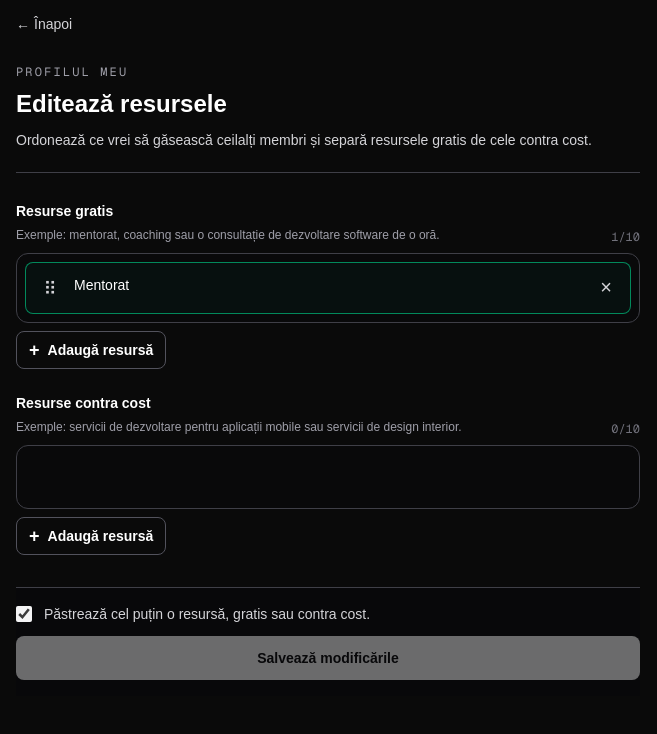
Test: ResourceMaintenanceForm › saves explicitly, then navigates with the established success-toast param
Click the button "Mentorat" at (102, 285), box [74,271,582,299]
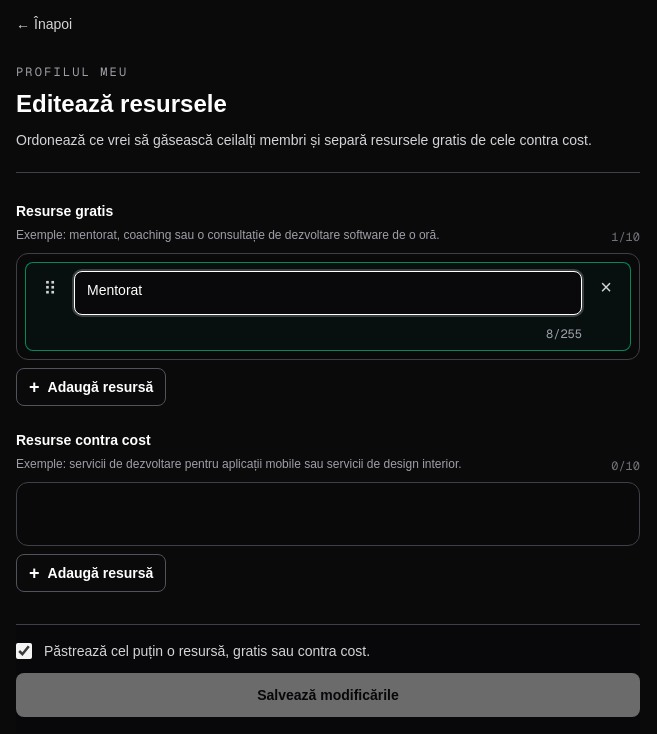
Replace the text in the text box named "Editează Mentorat" with "Coaching" at (328, 293), box [74,271,582,315]
Then press Enter
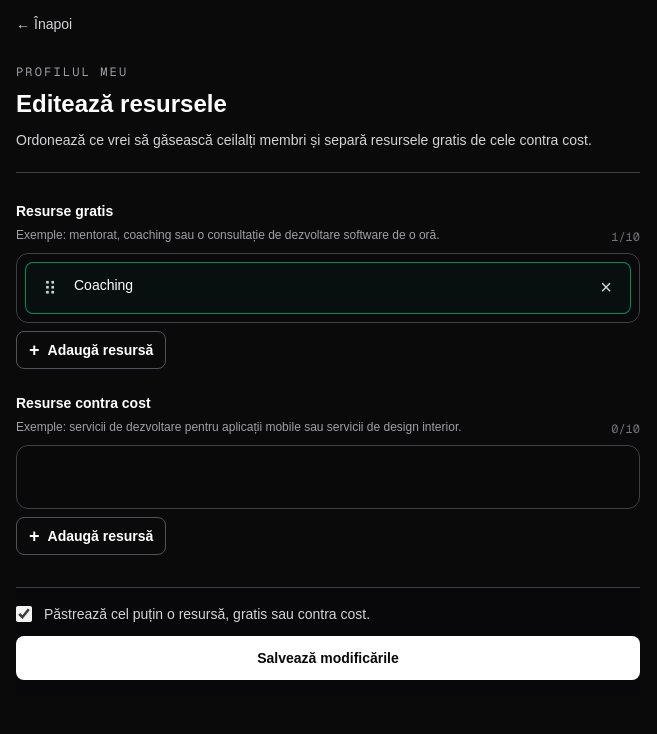
Click the button "Salvează modificările" at (328, 658), box [16,636,640,680]
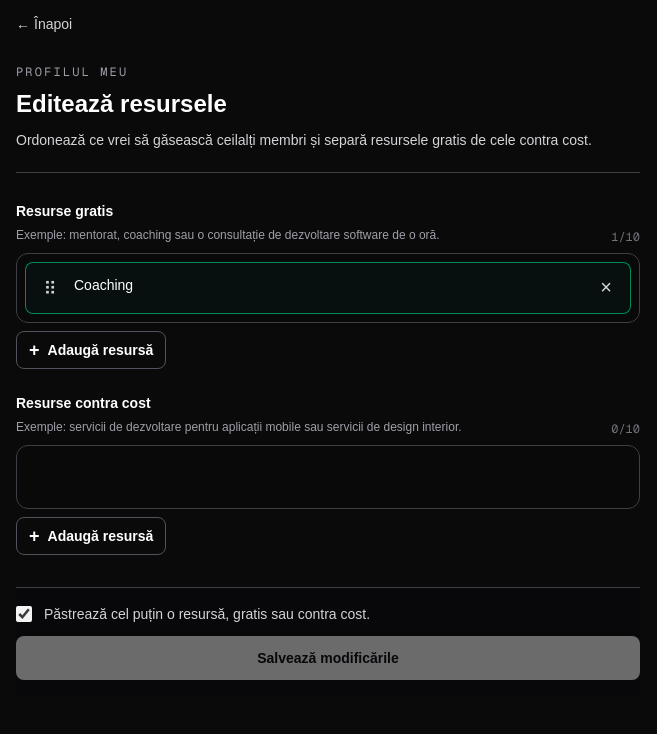
Expected: the button "Salvează modificările" is disabled, [16,636,640,680]
